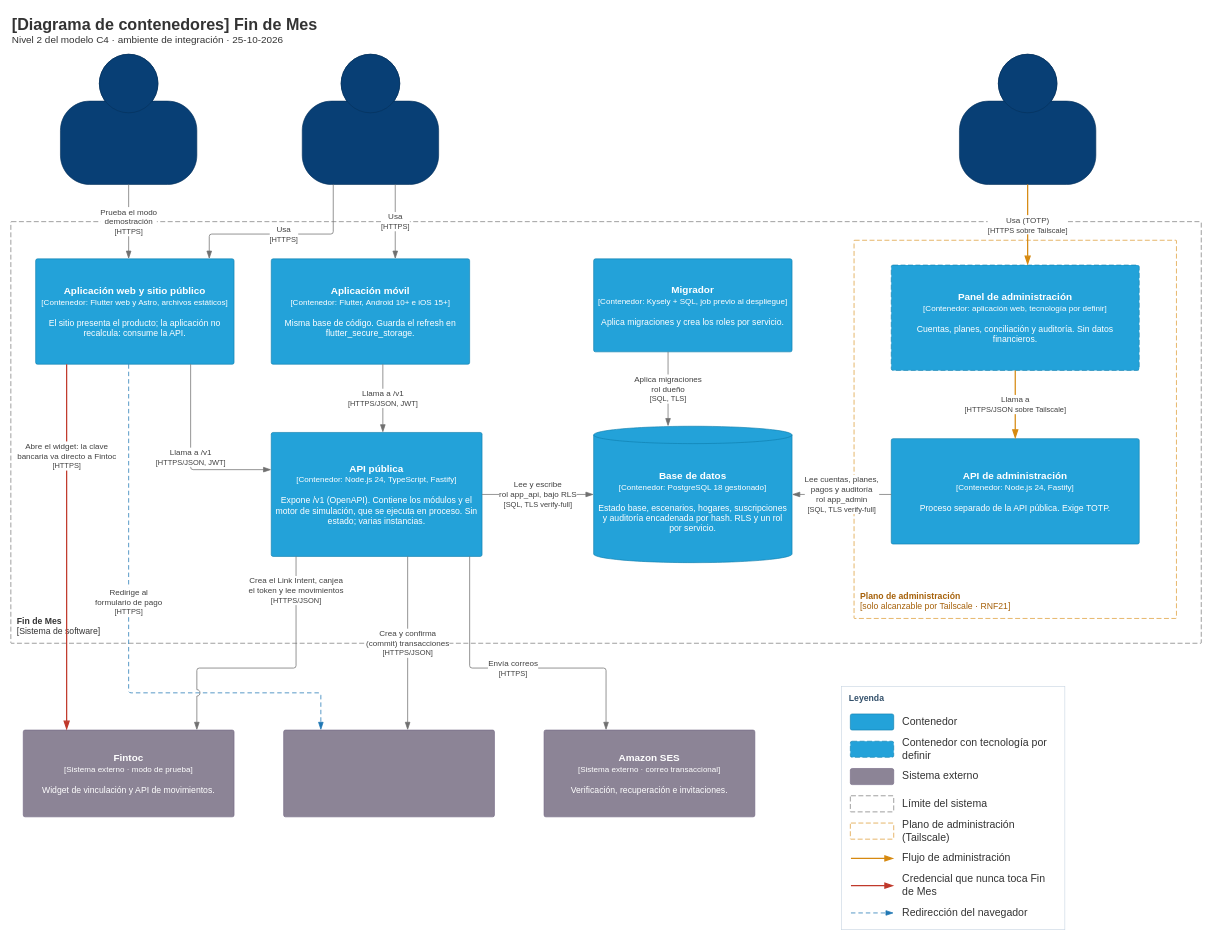
This 1212x941 diagram has some shape labels left out. The centre of each missing label's shape, as x and y in pixels:
"Administrador [Persona] Desde un equipo de la tailnet." goes at [1027,119].
"Transbank Webpay Plus [Sistema externo · integración] Formulario de pago y API." goes at [388,773].
"Usuario registrado [Persona] Incluye a los miembros de un hogar." goes at [370,119].
"Visitante [Persona] Sin cuenta." goes at [128,119].
